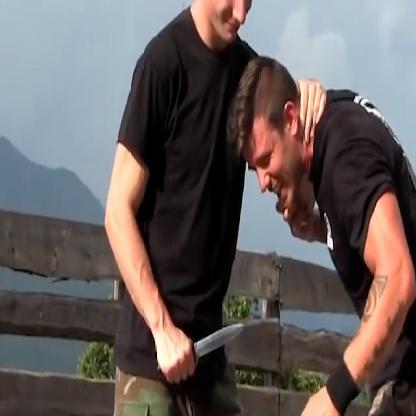knife: (152, 310, 252, 392)
